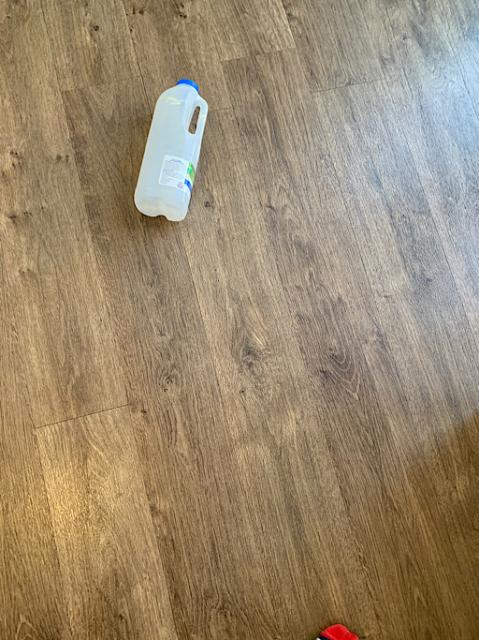plastic: (133, 78, 206, 219)
